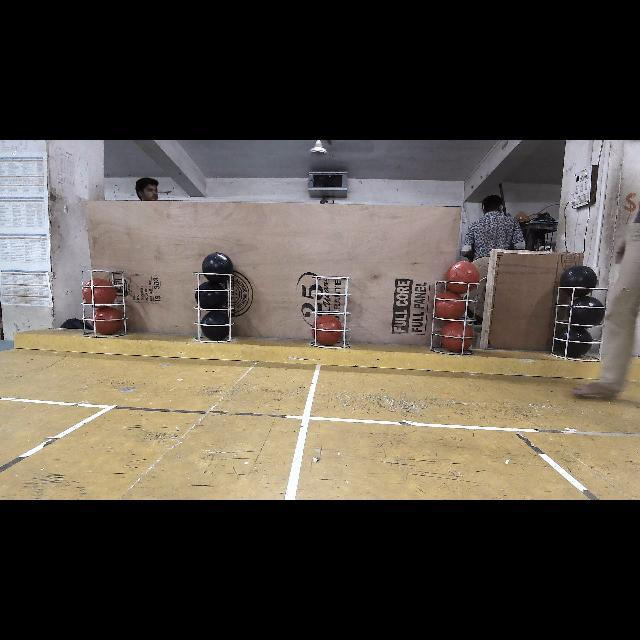P: (560, 265, 598, 298), (556, 326, 592, 356), (570, 296, 604, 326), (201, 252, 234, 282), (200, 313, 232, 339), (195, 284, 227, 308)
R: (445, 261, 480, 294), (82, 279, 118, 305), (91, 308, 123, 337), (312, 316, 342, 346), (442, 322, 472, 351), (434, 294, 464, 320)
S: (554, 283, 608, 362), (433, 279, 479, 355), (80, 268, 130, 336), (311, 275, 354, 351), (192, 271, 236, 345)
